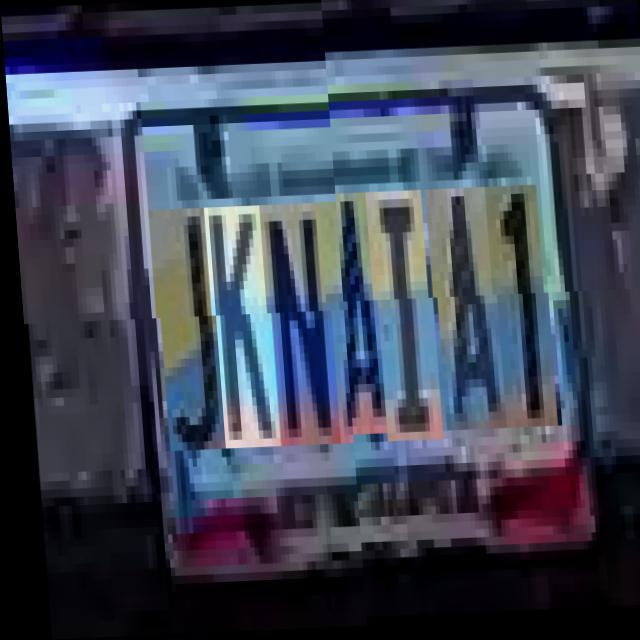1: (486, 198, 551, 440)
A: (426, 200, 500, 442), (320, 204, 390, 446)
I: (367, 202, 437, 453)
J: (149, 210, 219, 452)
K: (204, 208, 274, 450)
N: (260, 206, 334, 448)
